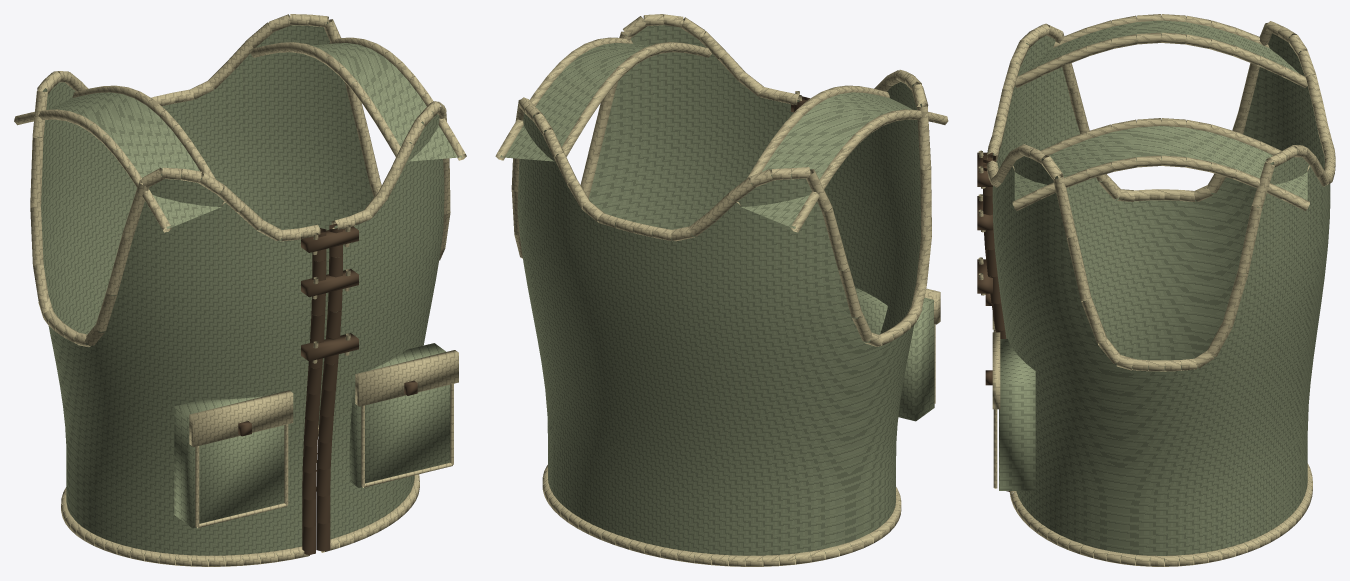
3 views of the same model, side by side, from view 1: azimuth 30°, elevation 25°; view 2: azimuth 150°, elevation 25°; view 3: azimuth 270°, elevation 25° (orthographic).
Parts seen in each view (by area): view 1: Woven_Vest; view 2: Woven_Vest; view 3: Woven_Vest.
Part boxes in pixels (<box>): Woven_Vest: <box>14,14,466,566</box>; Woven_Vest: <box>495,14,948,566</box>; Woven_Vest: <box>977,14,1335,566</box>.
Size of the model in its own units: 0.4766 by 0.5252 by 0.4111.
Materials: 3 (2 with a texture image).
